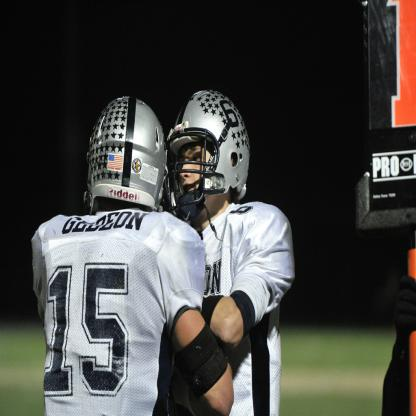Helmet: (166, 87, 251, 243), (68, 97, 167, 210)
